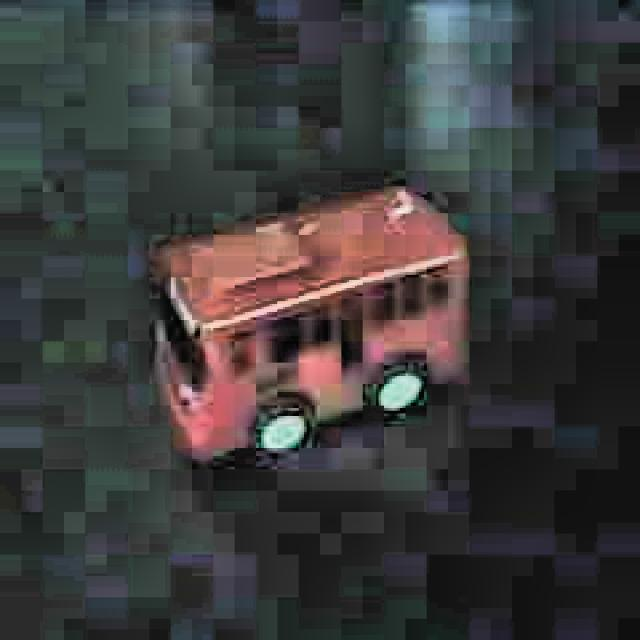bus: (138, 180, 476, 475)
